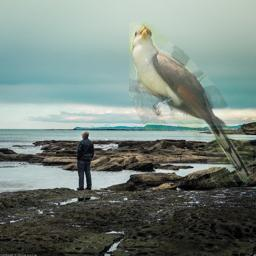Cuckoo: (129, 22, 253, 182)
